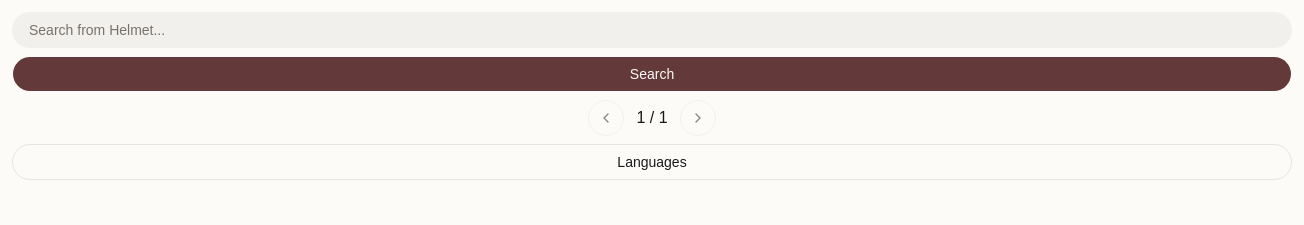
Test case: show search failed when search throws an error
Type "1984" into the field with placeholder "Search from Helmet..." at (652, 30), box [12,12,1292,48]
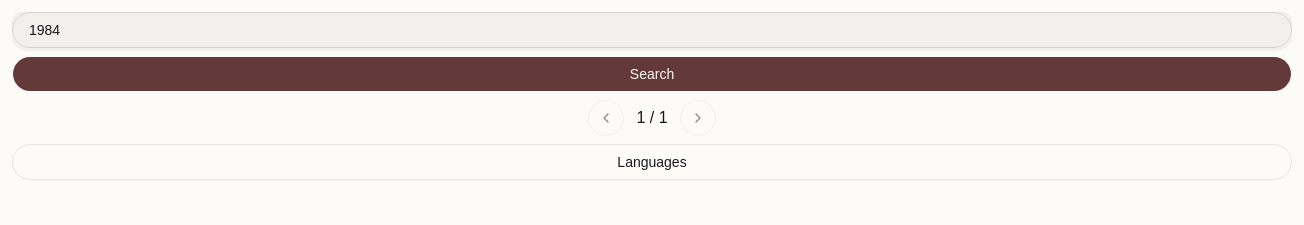
Click the button "Search" at (652, 74), box [12,56,1292,92]
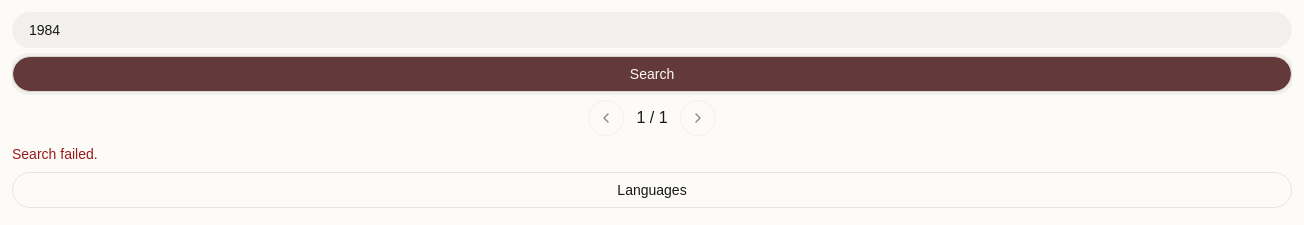
Check: the text "Search failed." is shown, box [12,146,98,162]
